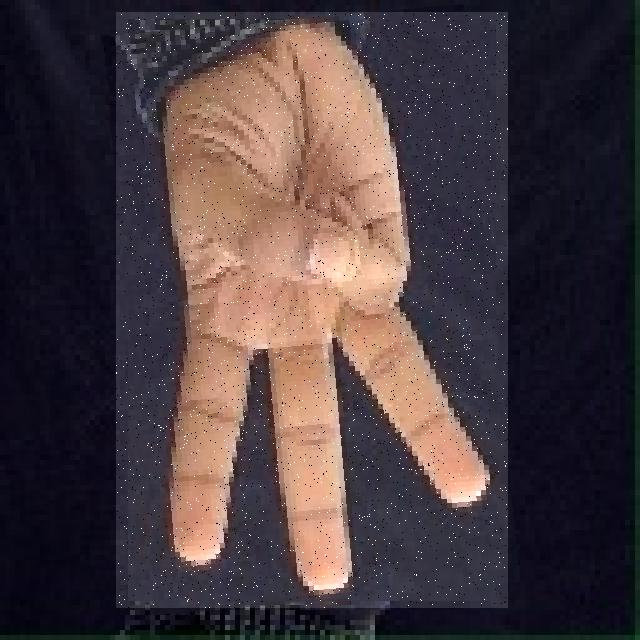Please: (116, 12, 508, 608)
